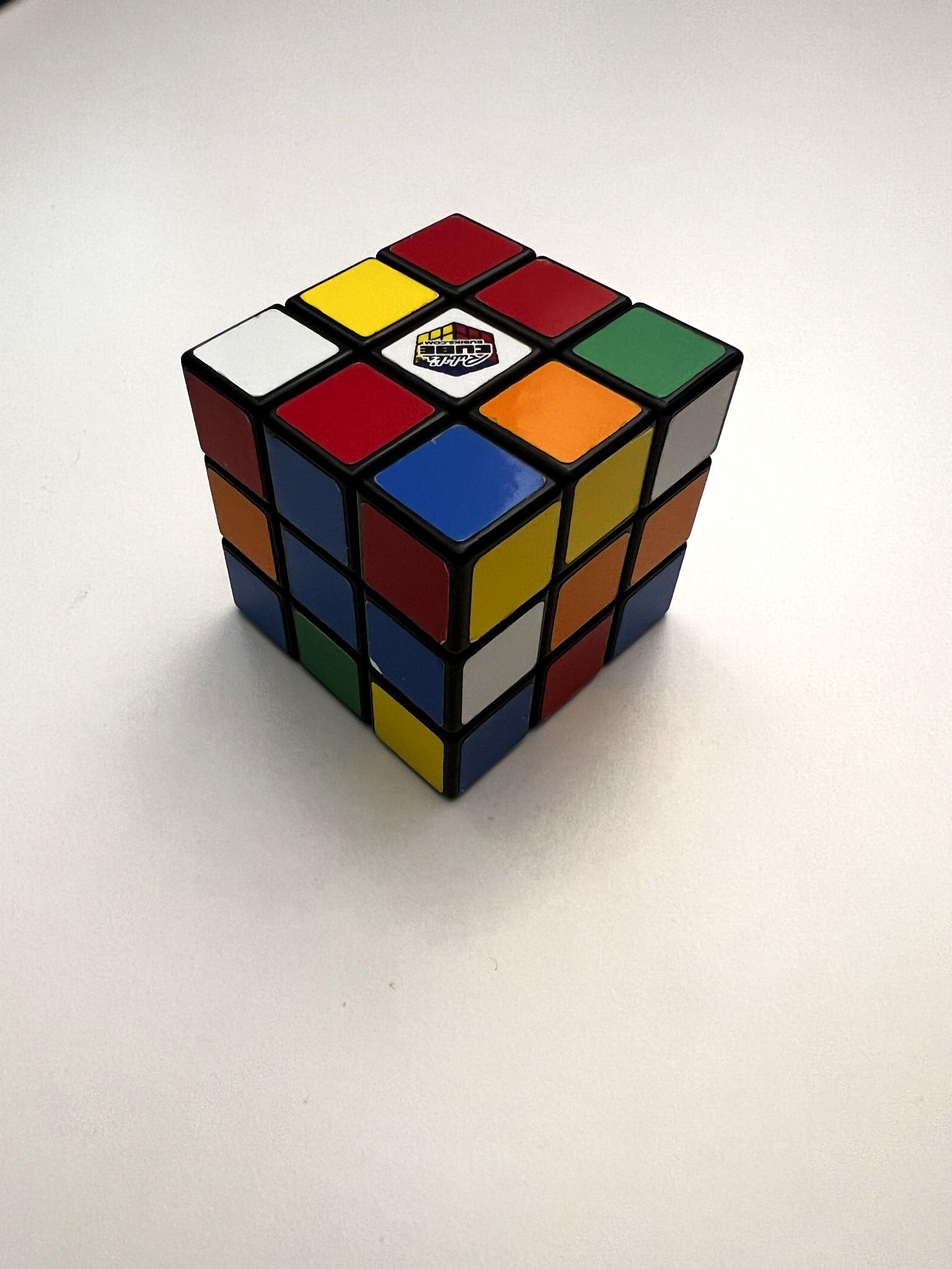rubiks_cube: (183, 216, 739, 791)
